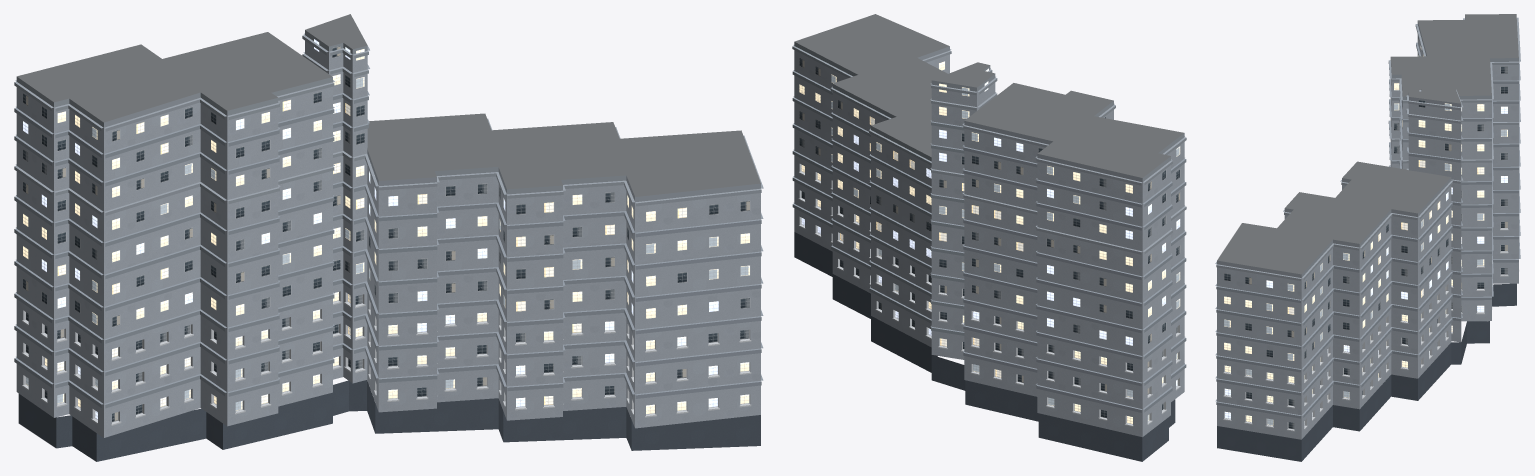
The model's file is z2b_josef_slab.glb.
3 renders of one model, left to right at view 1: azimuth 30°, elevation 25°; view 2: azimuth 150°, elevation 25°; view 3: azimuth 270°, elevation 25°, orthographic. The views are drawn at different scales.
Parts seen in each view (by area): view 1: z2b_josef_slab; view 2: z2b_josef_slab; view 3: z2b_josef_slab.
Part boxes in pixels (x1,y1,x2,y2): z2b_josef_slab: (14,14,763,461); z2b_josef_slab: (792,14,1186,461); z2b_josef_slab: (1215,14,1520,461).
Size of the model in its own units: 58.51 by 35.25 by 37.45.
3 materials, 3 textured.
